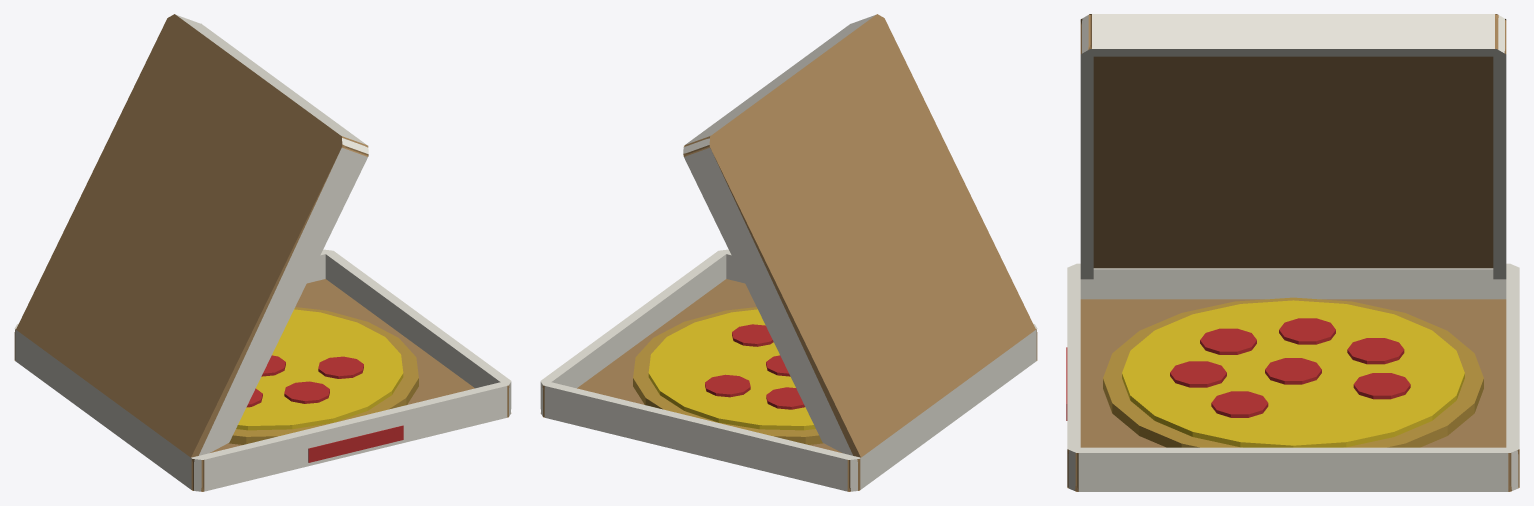
Rendered from pizza-box.glb.
The picture shows the model from 3 angles, left to right: view 1: azimuth 30°, elevation 25°; view 2: azimuth 150°, elevation 25°; view 3: azimuth 270°, elevation 25°; orthographic projection. The views are drawn at different scales.
Parts seen in each view (by area): view 1: lid, pizza-box; view 2: lid, pizza-box; view 3: lid, pizza-box.
Boxes of the visible parts, x1,y1,x2,y2 form: lid: (16, 14, 368, 457); pizza-box: (14, 249, 511, 491); lid: (683, 14, 1035, 457); pizza-box: (540, 249, 1037, 491); lid: (1080, 14, 1506, 279); pizza-box: (1066, 263, 1519, 491).
Bounding box in the file's own units: 0.9418 × 0.8816 × 0.9518.
